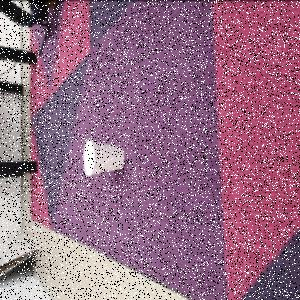Cup: (83, 138, 127, 178)
